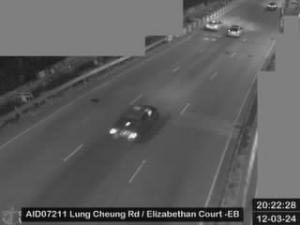vehicle: (108, 105, 160, 145), (226, 24, 242, 38), (204, 19, 222, 30), (267, 2, 277, 10)
